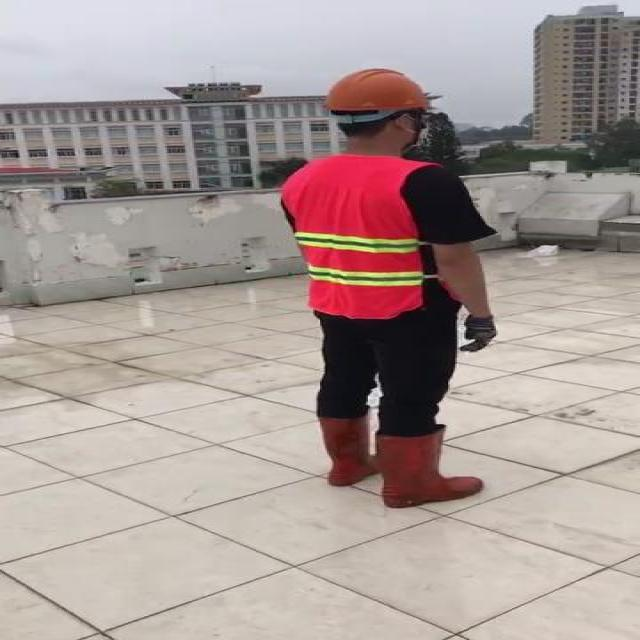boots: (371, 427, 495, 509), (314, 410, 380, 488)
hand_glove: (457, 314, 503, 356)
head_helmet: (321, 66, 436, 113)
person: (271, 69, 509, 508)
vest: (279, 153, 427, 322)
